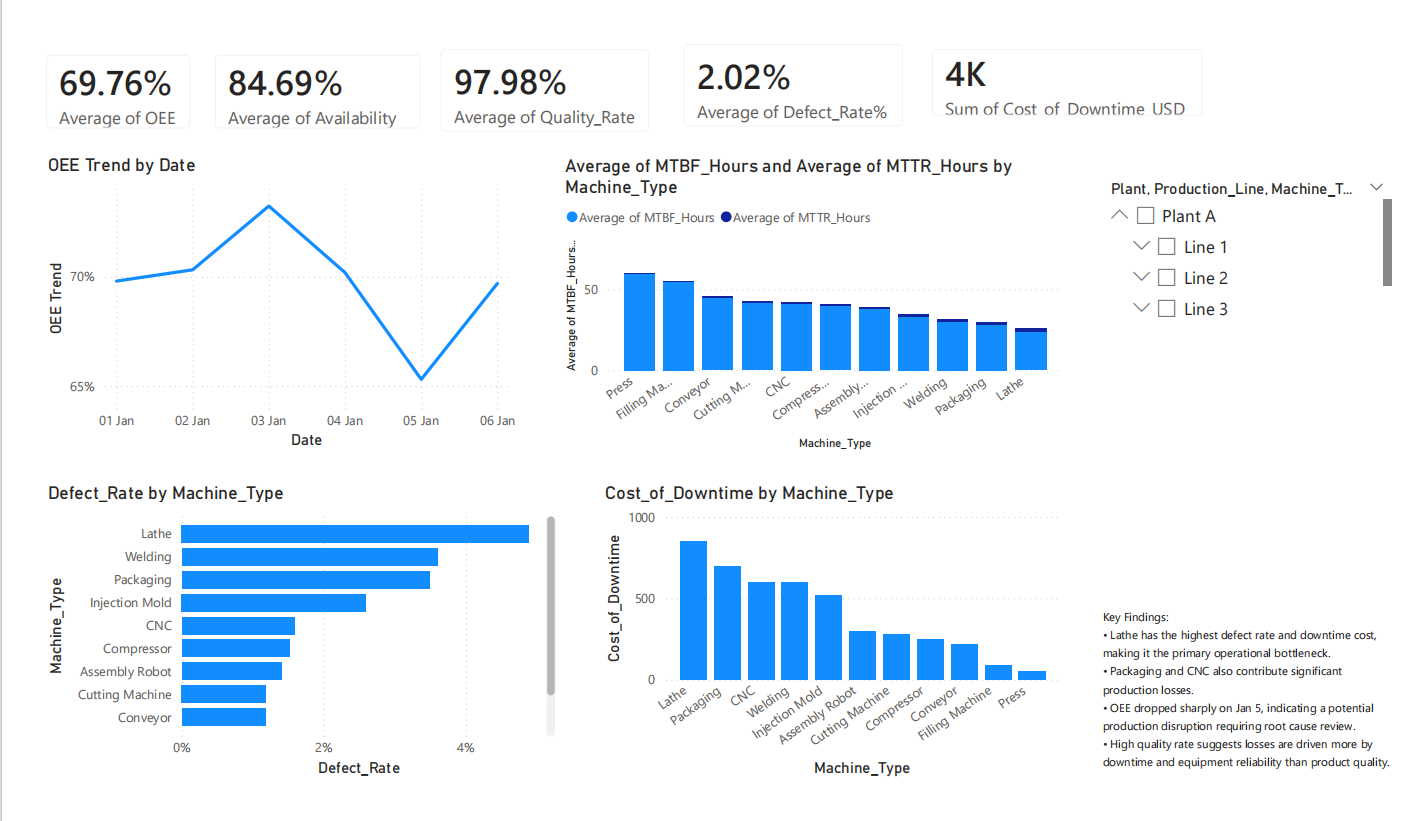

Layout of this report page (visuals, bound fields, positions):
{"tool":"powerbi","page":{"name":"Page 1","canvas":[1280,720],"ordinal":0},"visuals":[{"type":"lineChart","fields":{"Y":["Avg(Table1 (3).OEE)"],"Category":["Table1 (3).Date"]},"box":[13.6,119.6,447.4,280.1],"z":0},{"type":"lineStackedColumnComboChart","fields":{"Y":["Avg(Table1 (3).MTBF_Hours)","Avg(Table1 (3).MTTR_Hours)"],"Category":["Table1 (3).Machine_Type"]},"box":[498,120.6,473.7,280.1],"z":1000},{"type":"barChart","fields":{"Category":["Table1 (3).Machine_Type"],"Y":["Avg(Table1 (3).Defect_Rate%)"]},"box":[13.6,426,484.4,280.1],"z":2000},{"type":"slicer","fields":{"Values":["Table1 (3).Plant","Table1 (3).Production_Line","Table1 (3).Machine_Type","Table1 (3).Shift","Table1 (3).Date"]},"box":[999.9,139.1,280.1,146.9],"z":3000},{"type":"columnChart","fields":{"Y":["Sum(Table1 (3).Cost_of_Downtime_USD)"],"Category":["Table1 (3).Machine_Type"]},"box":[535,426,433.8,280.1],"z":4000},{"type":"cardVisual","fields":{"Data":["Avg(Table1 (3).OEE)"]},"box":[0,9.7,169.2,103.1],"z":5000},{"type":"cardVisual","fields":{"Data":["Avg(Table1 (3).Availability)"]},"box":[157.6,9.7,226.6,103.1],"z":6000},{"type":"cardVisual","fields":{"Data":["Avg(Table1 (3).Quality_Rate)"]},"box":[368.6,4.9,229.5,111.9],"z":7000},{"type":"cardVisual","fields":{"Data":["Sum(Table1 (3).Cost_of_Downtime_USD)"]},"box":[827.7,4.9,287.9,96.3],"z":7001},{"type":"textbox","box":[999.9,536.9,280.1,169.2],"z":7002},{"type":"cardVisual","fields":{"Data":["Avg(Table1 (3).Defect_Rate%)"]},"box":[596.2,0,239.3,111.9],"z":7003}]}

Visuals, with their boxes in screenshot pixels (x1, y1, x2, y2), scaled from the page's 1280x720 canvas onto the 1421x821 screenshot:
lineChart - Avg(Table1 (3).OEE) x Table1 (3).Date: pyautogui.locateOnScreen(15, 136, 512, 456)
lineStackedColumnComboChart - Avg(Table1 (3).MTBF_Hours) x Avg(Table1 (3).MTTR_Hours): pyautogui.locateOnScreen(553, 138, 1079, 457)
barChart - Table1 (3).Machine_Type x Avg(Table1 (3).Defect_Rate%): pyautogui.locateOnScreen(15, 486, 553, 805)
slicer - Table1 (3).Plant x Table1 (3).Production_Line: pyautogui.locateOnScreen(1110, 159, 1420, 326)
columnChart - Sum(Table1 (3).Cost_of_Downtime_USD) x Table1 (3).Machine_Type: pyautogui.locateOnScreen(594, 486, 1076, 805)
cardVisual - Avg(Table1 (3).OEE): pyautogui.locateOnScreen(0, 11, 188, 129)
cardVisual - Avg(Table1 (3).Availability): pyautogui.locateOnScreen(175, 11, 427, 129)
cardVisual - Avg(Table1 (3).Quality_Rate): pyautogui.locateOnScreen(409, 6, 664, 133)
cardVisual - Sum(Table1 (3).Cost_of_Downtime_USD): pyautogui.locateOnScreen(919, 6, 1238, 115)
textbox: pyautogui.locateOnScreen(1110, 612, 1420, 805)
cardVisual - Avg(Table1 (3).Defect_Rate%): pyautogui.locateOnScreen(662, 0, 928, 128)
